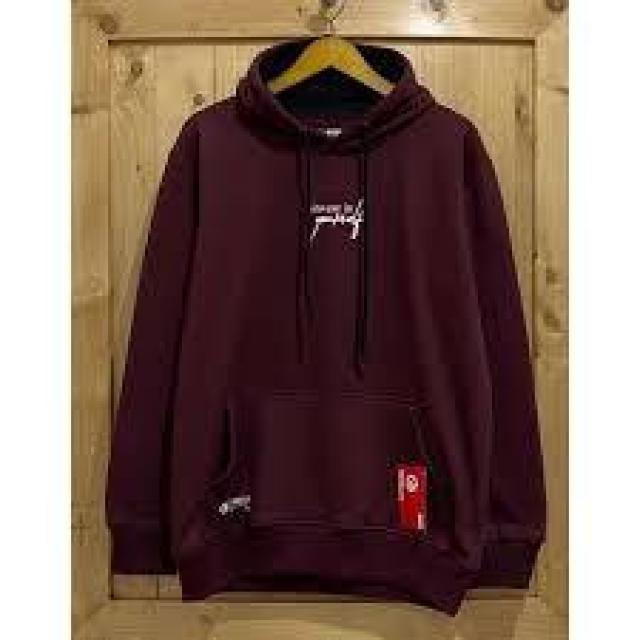sweater: (107, 50, 539, 593)
